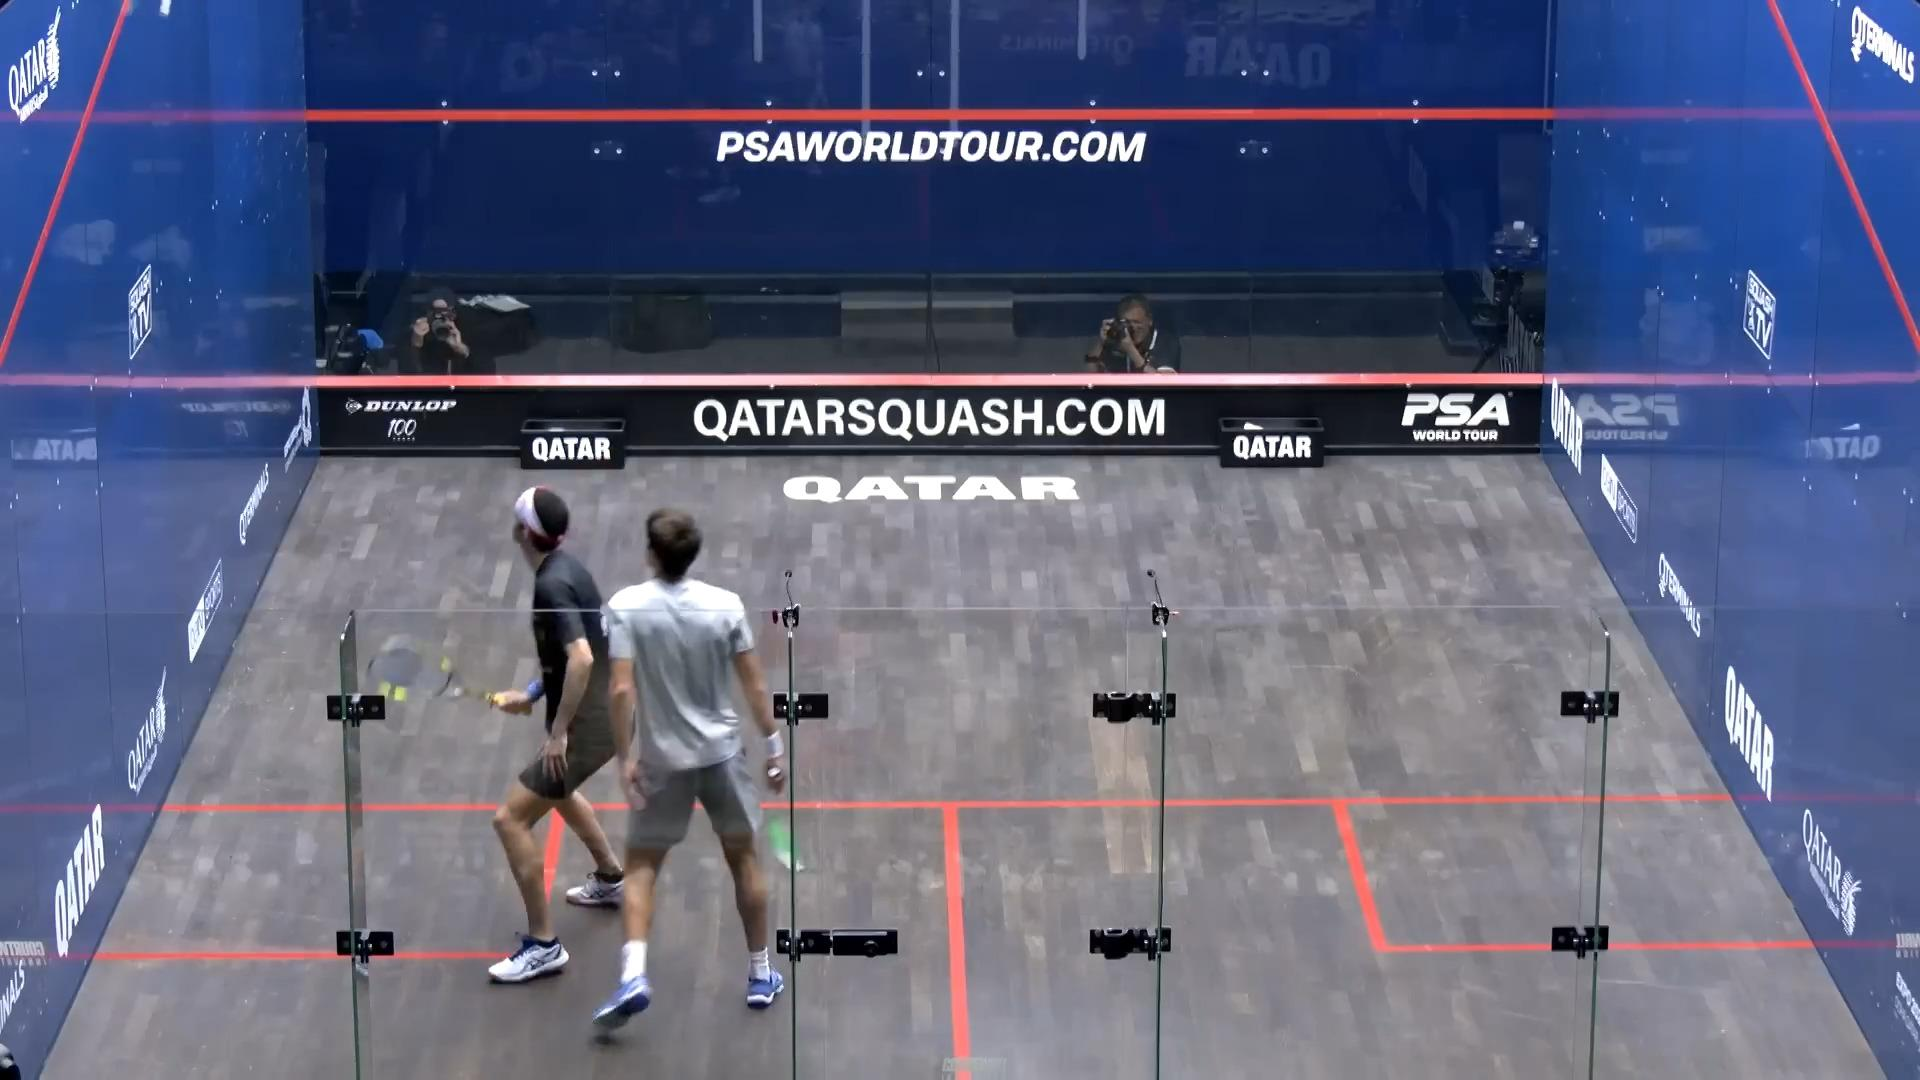Racket: (359, 634, 497, 740)
